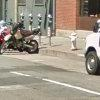Motorcycle: (2, 19, 44, 58)
